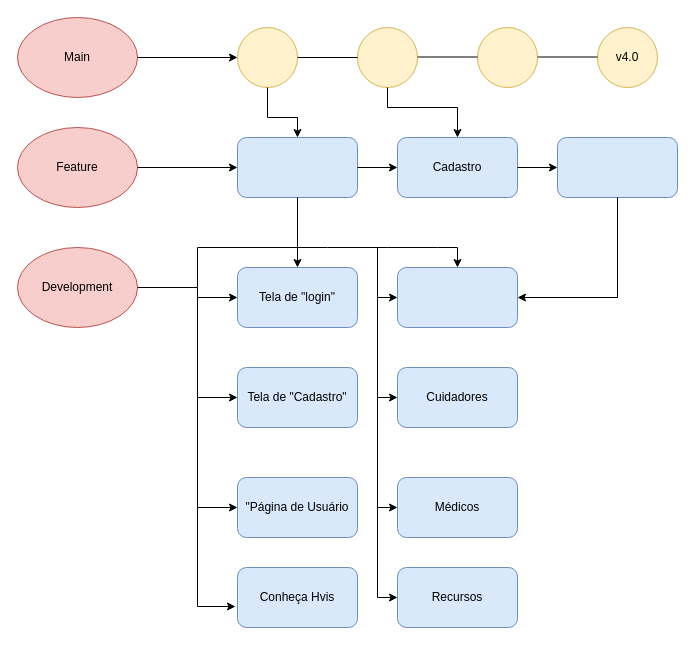
Image size: 695x645. Some labels were removed from this diagram. The box of each missing label's shape, as (x1, y1, x2, y2) in pixels:
Componentes: (396, 266, 518, 328)
Login: (556, 136, 678, 198)
v1.0: (236, 26, 298, 88)
v2.0: (356, 26, 418, 88)
v3.0: (476, 26, 538, 88)
Visual Helper: (236, 136, 358, 198)
